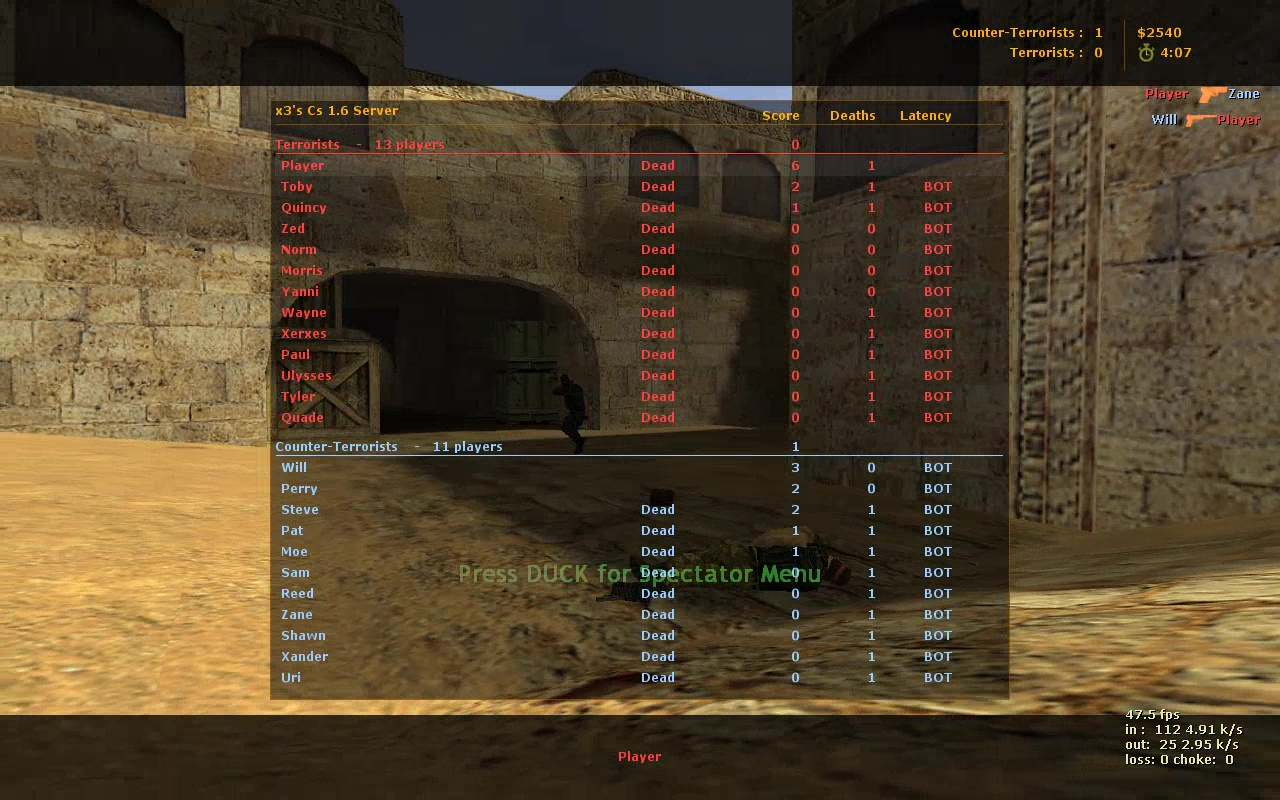ct: (551, 375, 595, 453)
dead: (620, 518, 853, 614)
